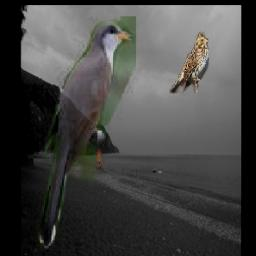Cuckoo: (36, 16, 136, 250)
Sparrow: (169, 33, 209, 94)
